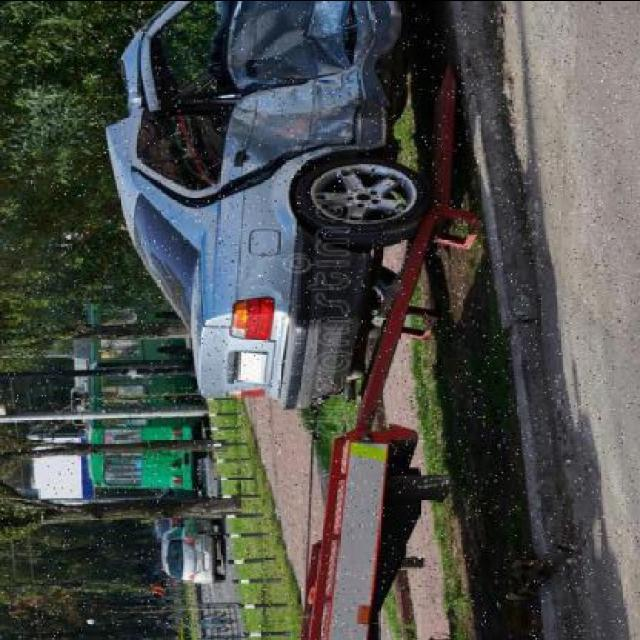RunningBoard-Dent: (357, 40, 401, 151)
doorouter-dent: (223, 83, 360, 175), (229, 1, 359, 83)
roof-dent: (97, 12, 173, 205)
